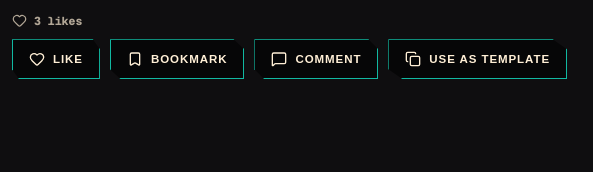
Test: PublicHeroActions › likes a hero with a JSON POST and uses the server like count
What coordinates should you click on to do the following:
click the button with aria-label "Like Arc Light"
I would click on:
 (56, 59)
Its box is top-left (12, 39), bottom-right (100, 79).
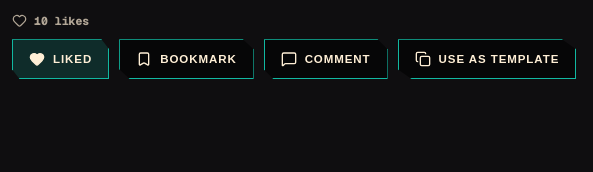
expect the element with test id "public-hero-like-count" reads "10 likes": met, box top-left (34, 13), bottom-right (89, 28)
